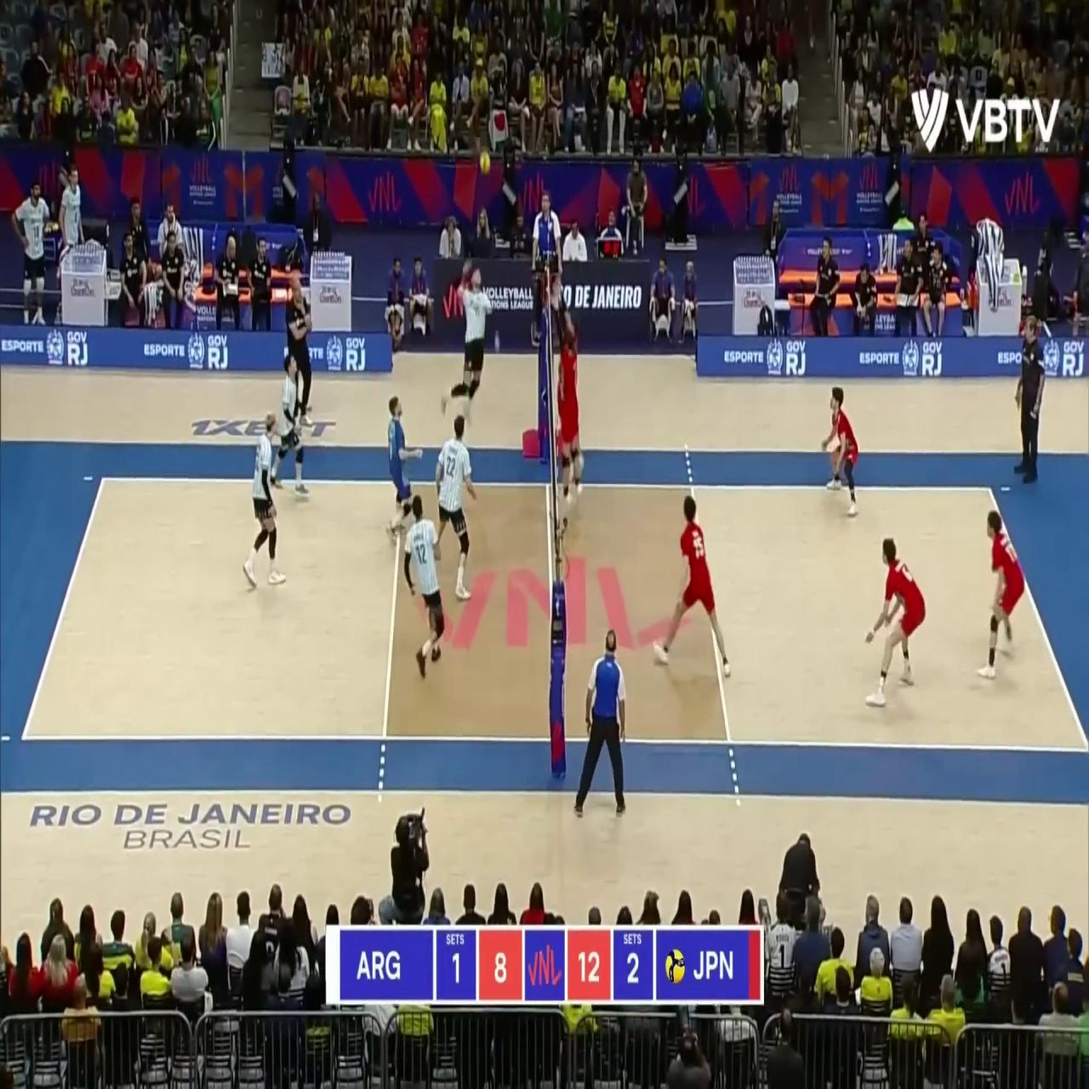ball: (480, 150, 490, 171)
